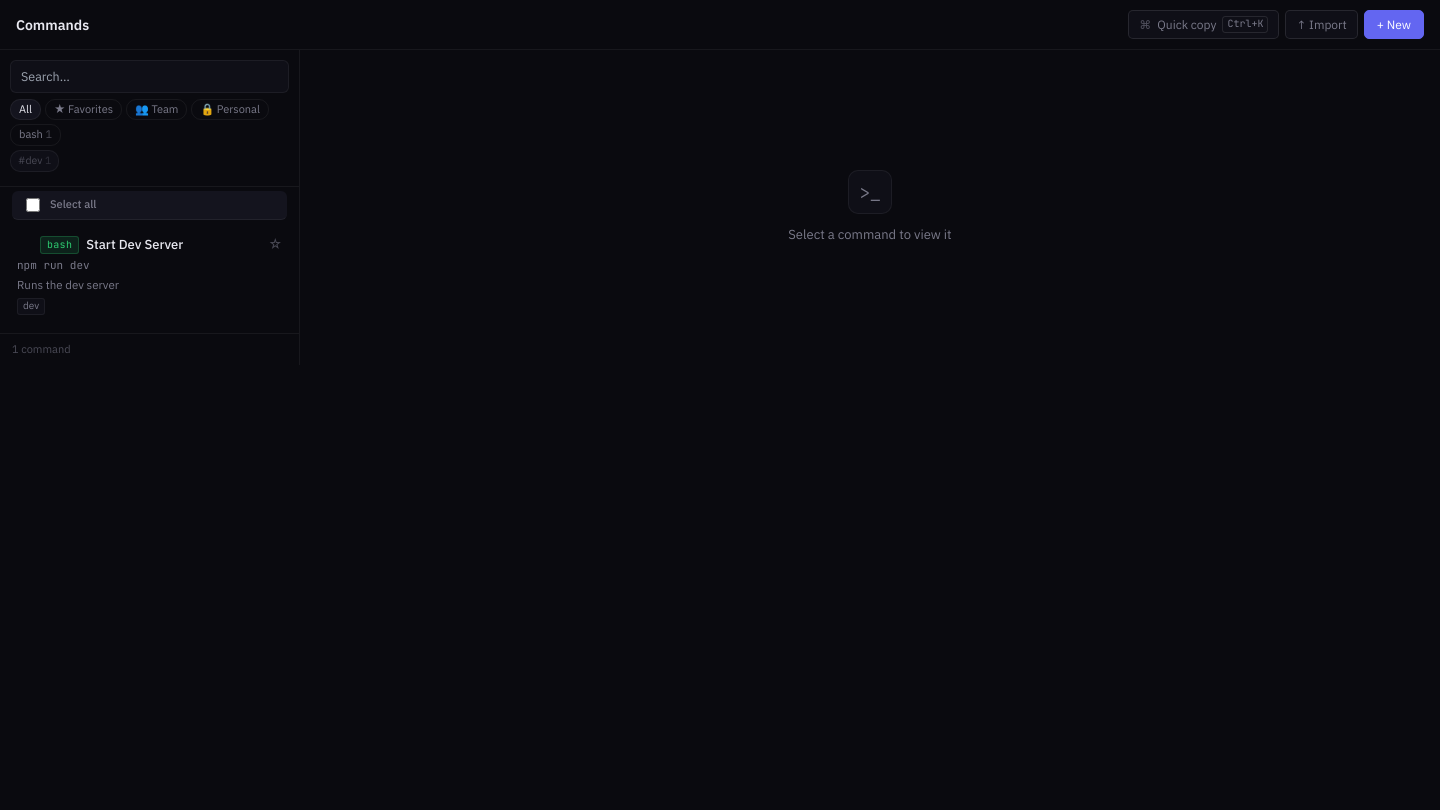
Test: CommandsPage › requires a title and command before creating
Expected: the text "Start Dev Server" is shown, [86, 236, 183, 252]
Click the button "+ New" at (1394, 25), box [1364, 10, 1424, 39]
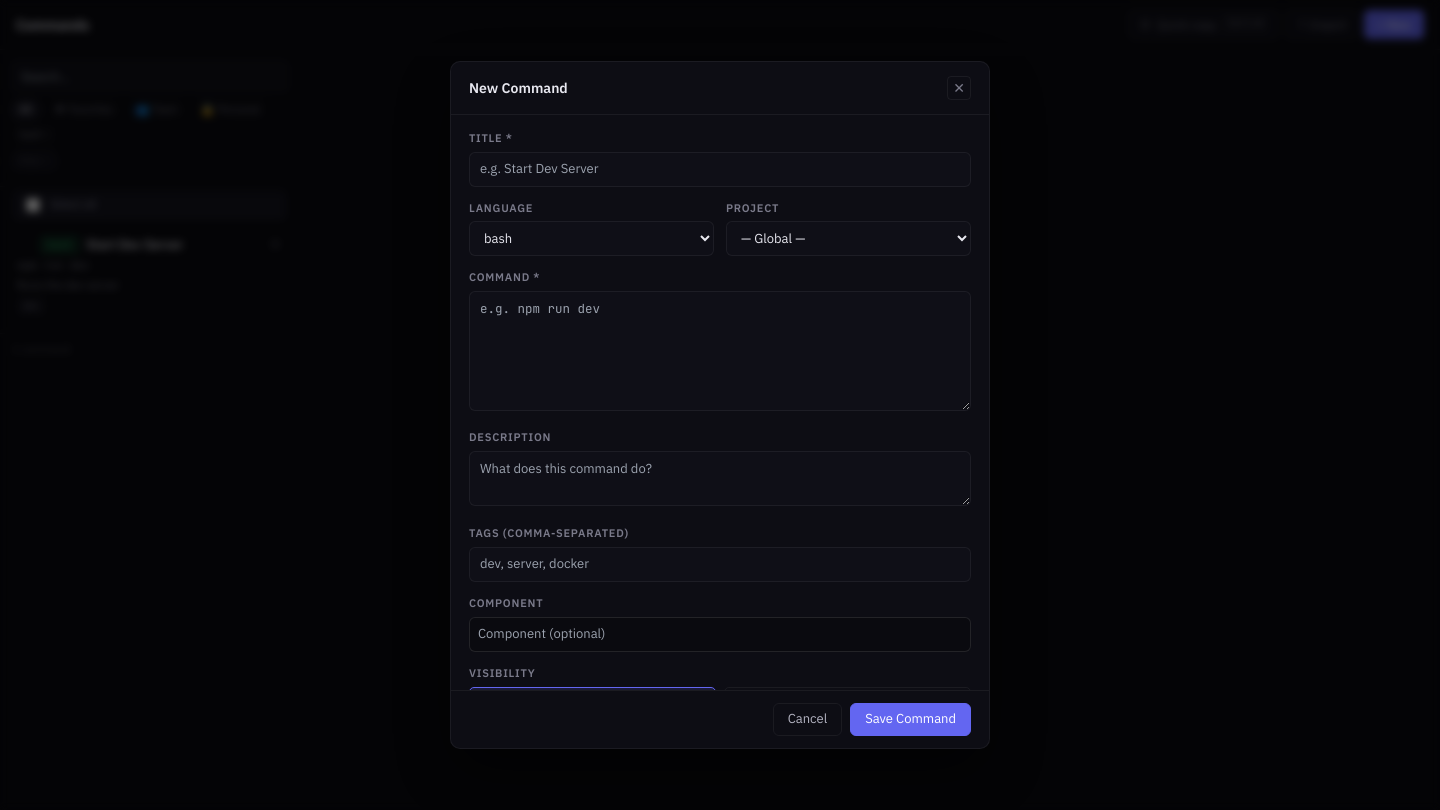
Click the button "Save Command" at (911, 720), box [850, 703, 971, 736]
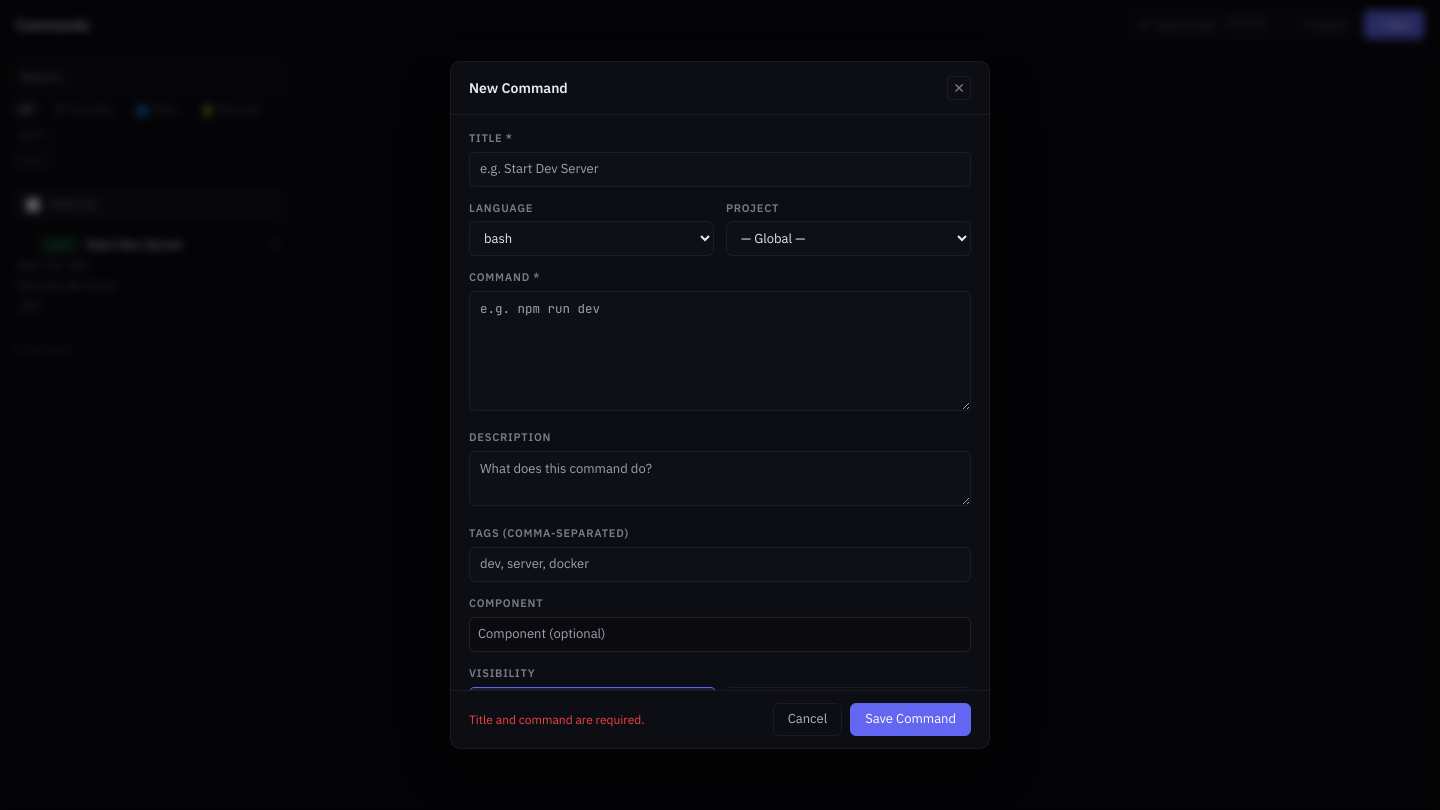
Now the text "Title and command are required." is shown, box [469, 712, 644, 727]
